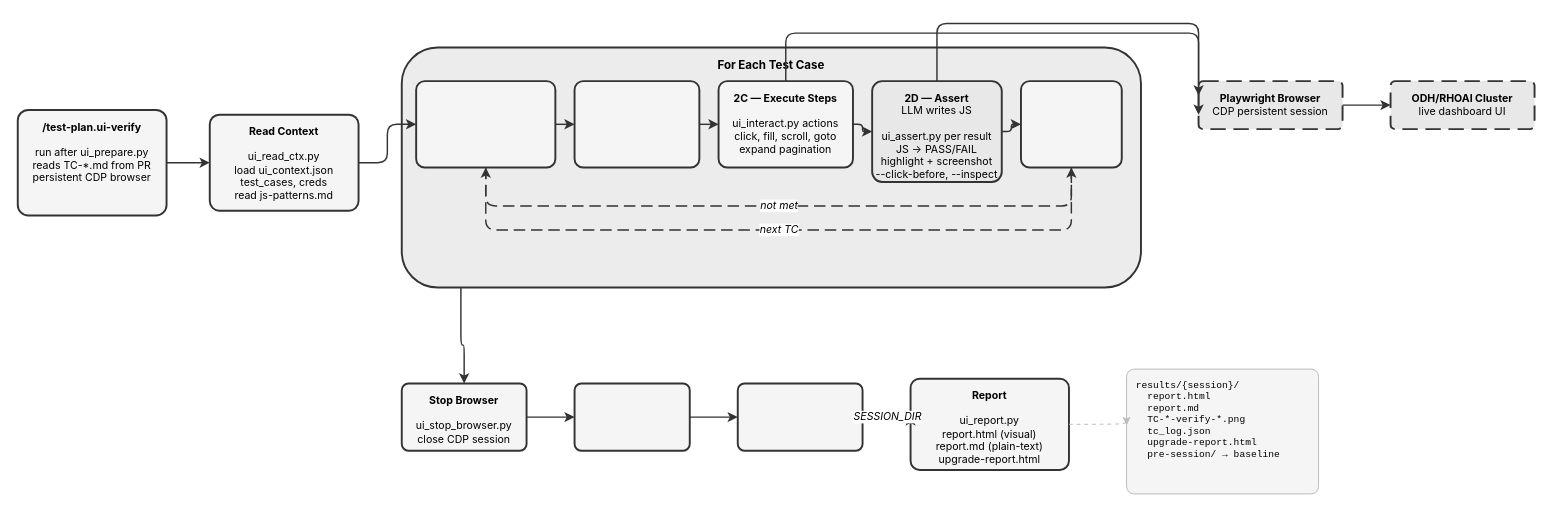
Some shapes in this 1551 by 512 pixel diagram are drawn without their labels. The shapes that lost their labels are listed below. From the top down, each one's centre as x and y in pixels, then its label:
At point (485, 124): "2A — Preconditions check preconditions oc verify cluster ui_block.py if not met".
At point (636, 124): "2B — Reset goto target URL twice clears filters/state KNOWN_ROUTES lookup".
At point (1071, 124): "2E — End TC log verdict ui_block.py on crash max 2 retries".
At point (631, 416): "Cleanup ui_cleanup.py always runs".
At point (799, 416): "Collect ui_collect.py gather screenshots + logs".
